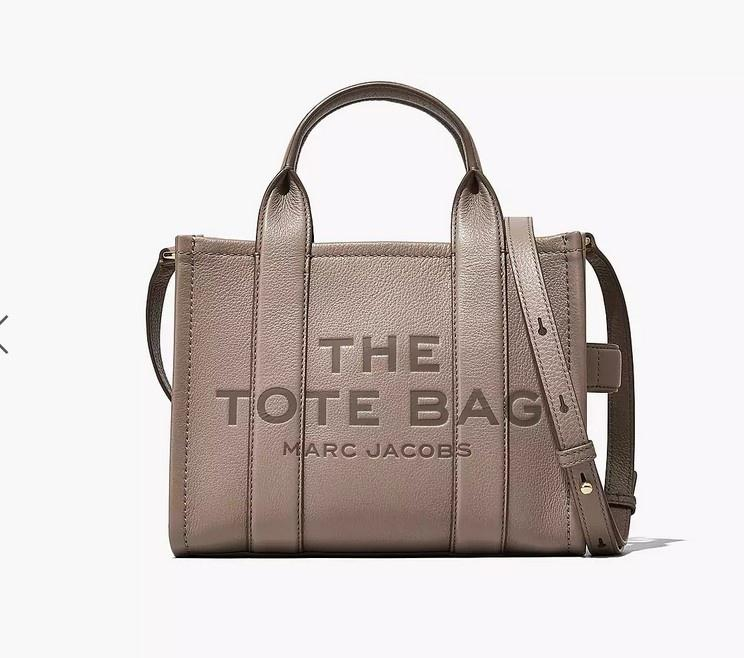MARC-JACOBS: (283, 440, 471, 459)
